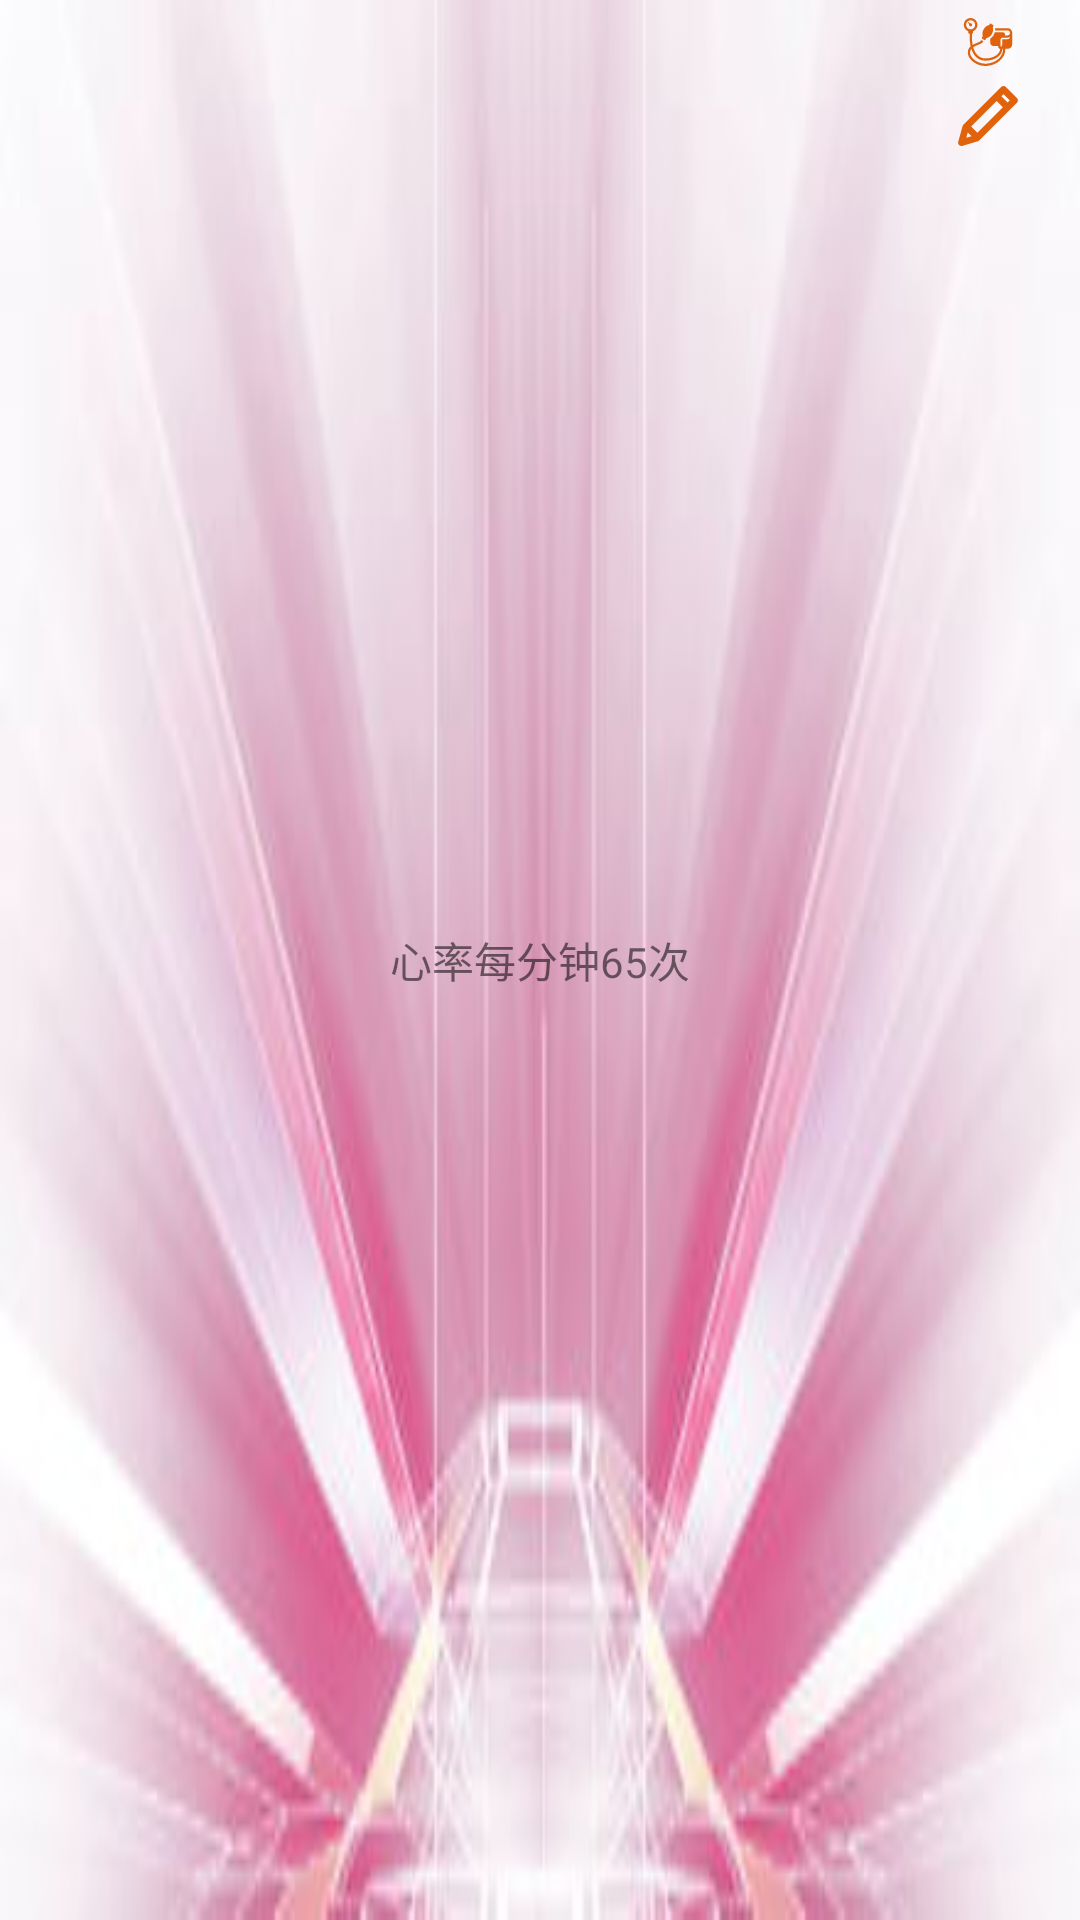

Where icons sit on this 1080 x 1920 app screen, as (x1, y1, x2, y2):
pen: (958, 86, 1018, 146)
testblood: (963, 18, 1013, 66)
